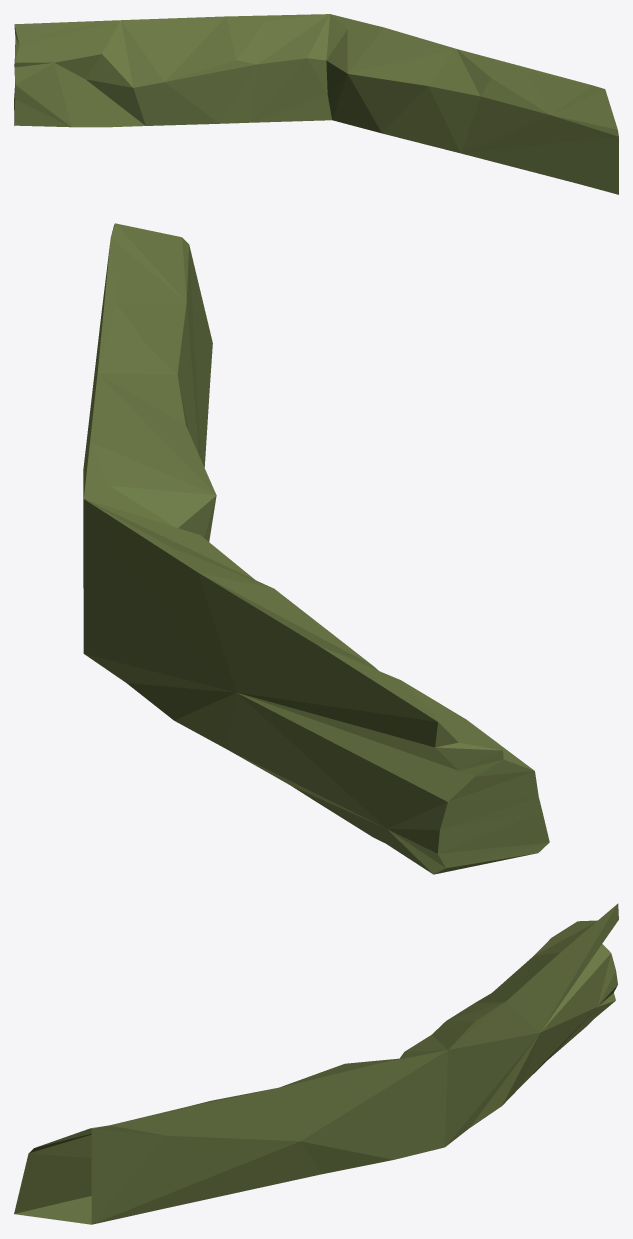
The model's file is ground_37.fbx.
The picture shows the model from 3 angles, top to bottom: view 1: azimuth 30°, elevation 25°; view 2: azimuth 150°, elevation 25°; view 3: azimuth 270°, elevation 25°; orthographic projection. The views are drawn at different scales.
Parts seen in each view (by area): view 1: ground_37; view 2: ground_37; view 3: ground_37.
Boxes of the visible parts, box(x1,y1,x2,y2) form: ground_37: box(14, 14, 618, 194); ground_37: box(83, 223, 549, 874); ground_37: box(14, 903, 618, 1224).
Size of the model in its own units: 4 by 0.8687 by 4.23.
